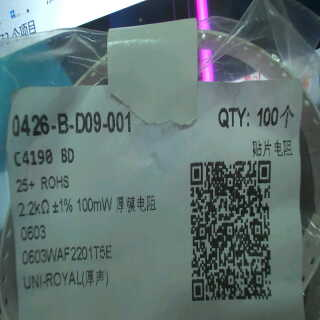2.2kR: (16, 195, 53, 220)
